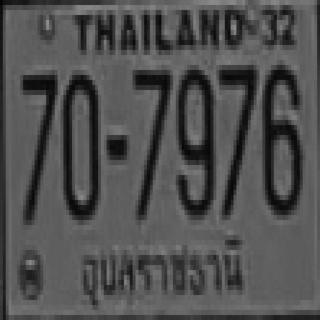N00: (60, 70, 98, 215)
N06: (261, 60, 301, 210)
N07: (216, 60, 254, 215), (131, 65, 169, 215), (20, 70, 55, 220), (20, 72, 55, 192)
N09: (176, 65, 213, 215)
P72: (78, 238, 247, 314)
